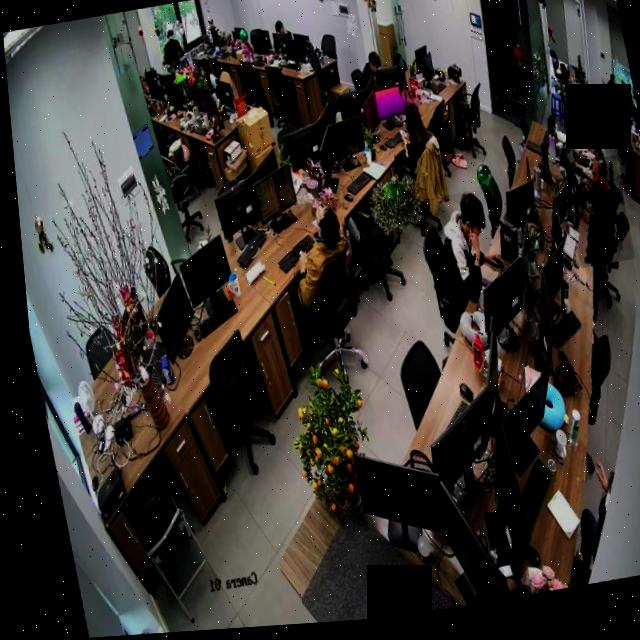person: (413, 193, 514, 346), (275, 199, 354, 317), (556, 163, 630, 276), (380, 96, 437, 183), (562, 137, 610, 194), (154, 22, 188, 76), (190, 56, 218, 97)
